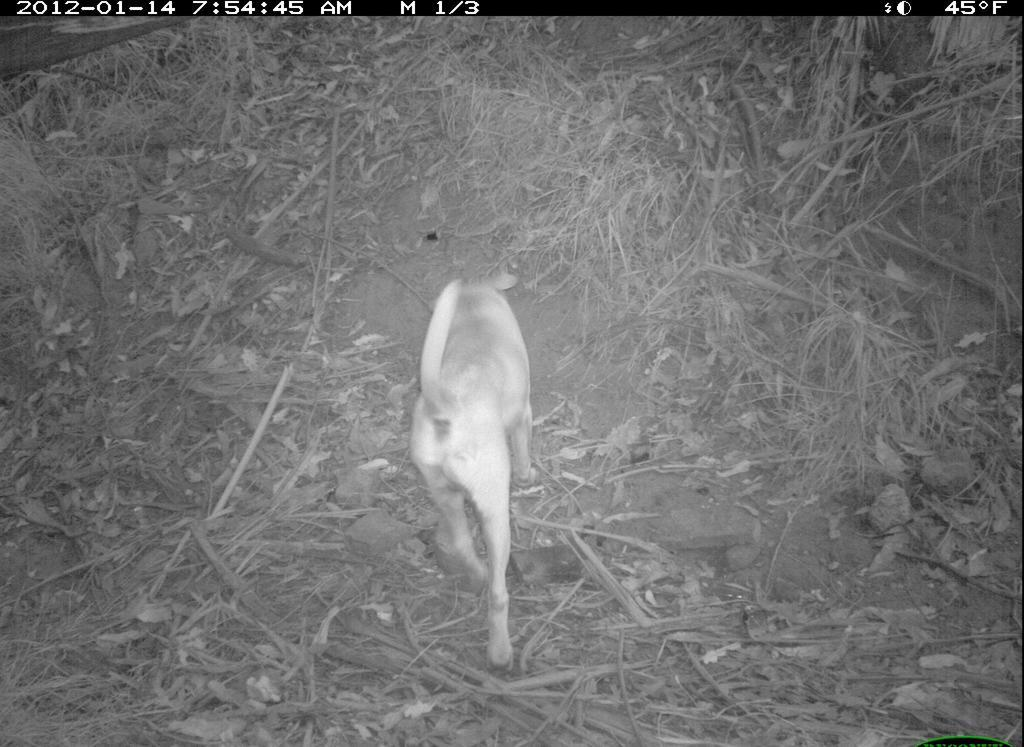dog: (404, 271, 541, 675)
